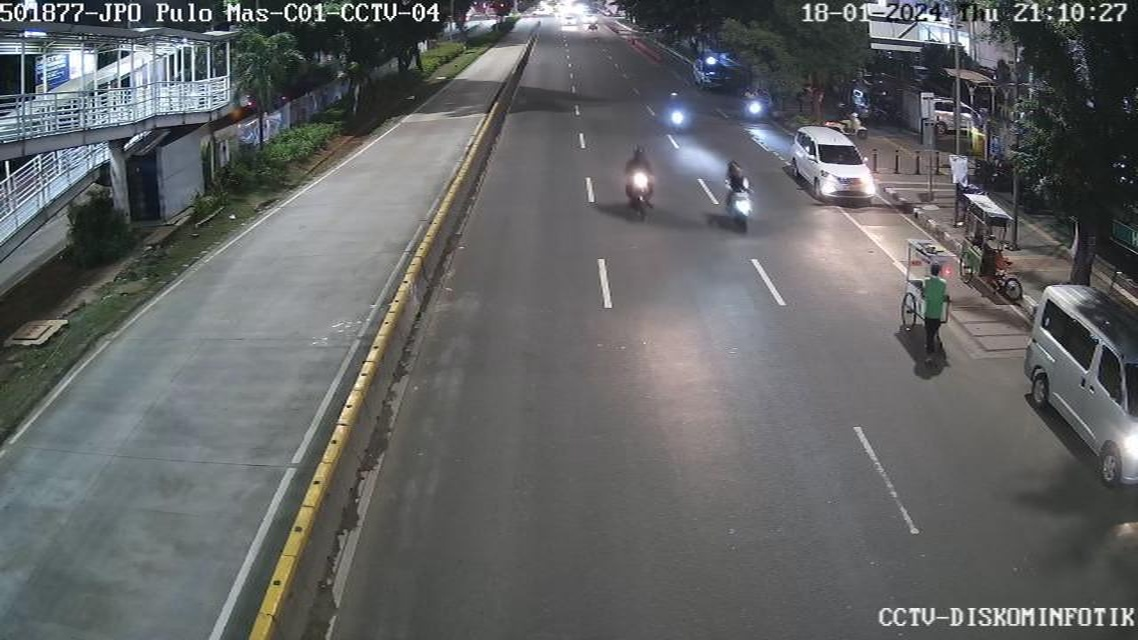Gerobak: (960, 159, 1037, 320), (887, 227, 958, 384)
